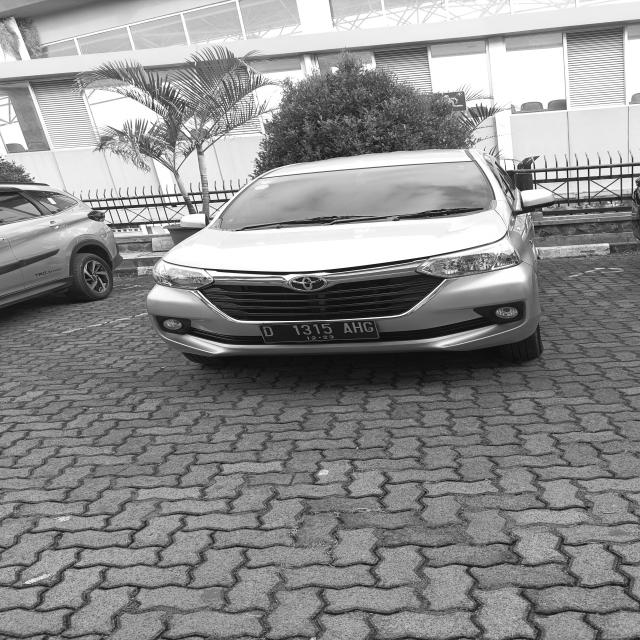license-plat: (250, 317, 390, 347)
